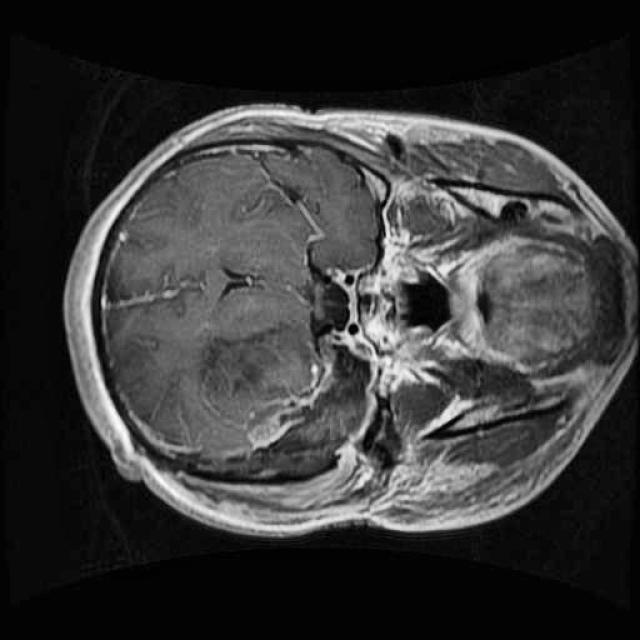Non-Tumor: (229, 335, 376, 470)
